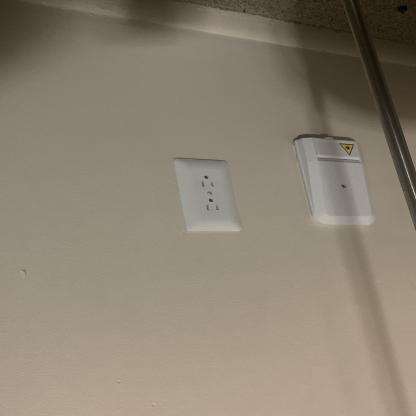OUTLET: (176, 160, 239, 232)
